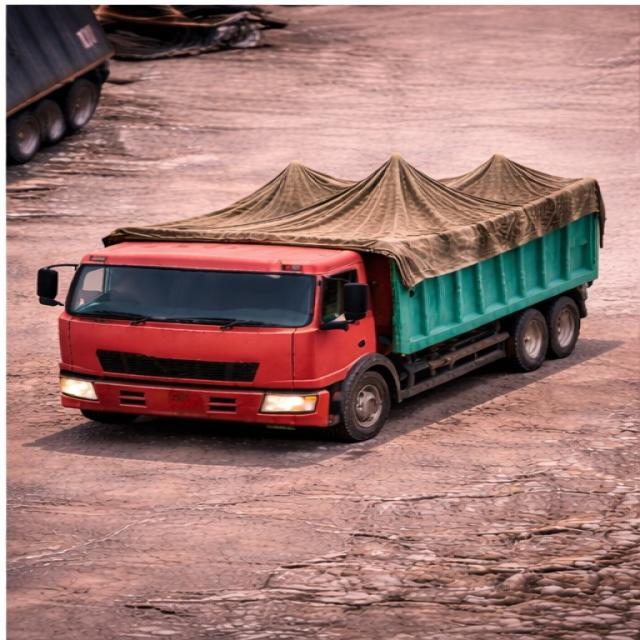Box: (115, 152, 607, 247)
Truck: (29, 142, 626, 439)
